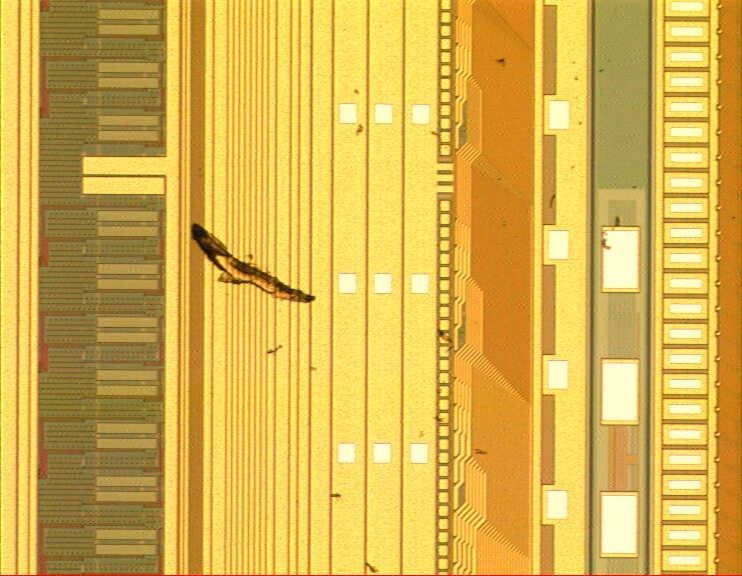PO CONTAMINATION: (188, 55, 642, 576)
